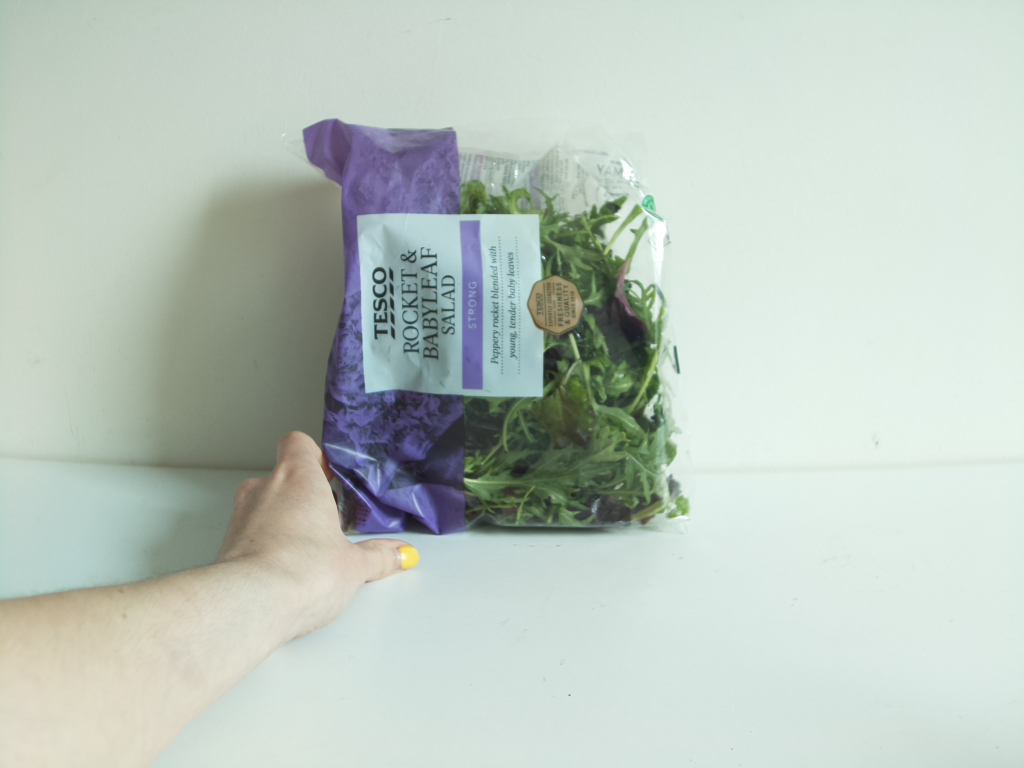salad: (345, 131, 670, 528)
